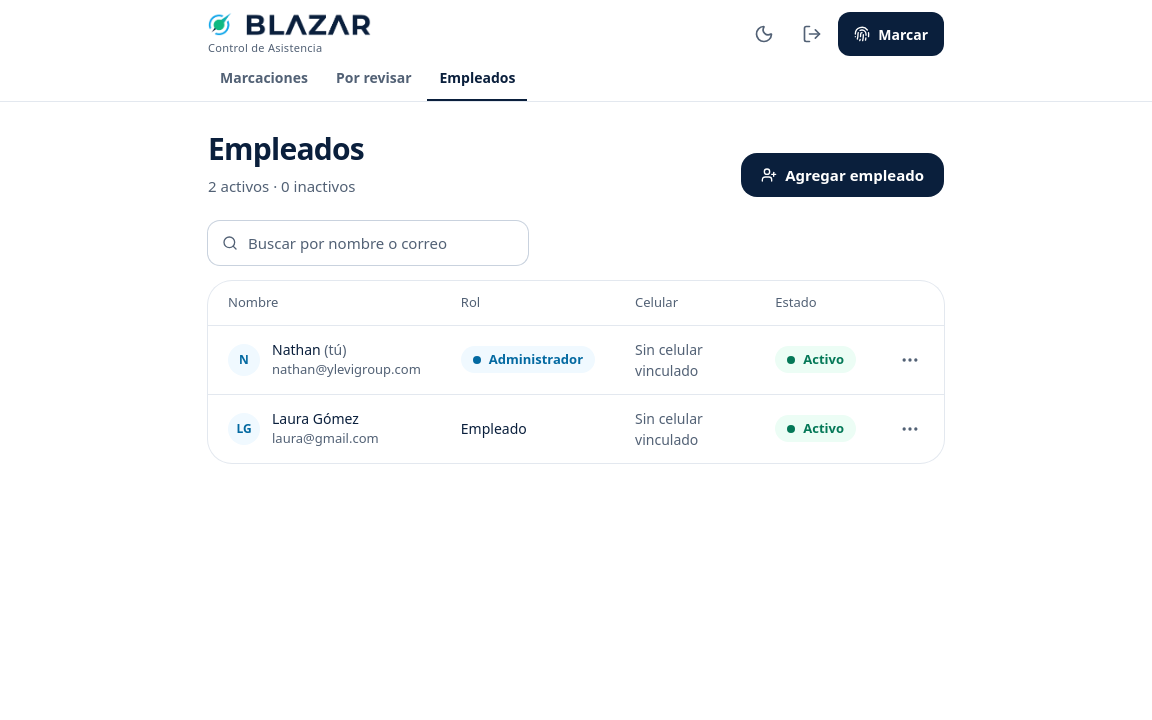
Empleados (administrador, datos reales) › si el servidor rechaza la acción, explica el motivo en el diálogo
Press Enter in the button named "Acciones para Laura Gómez", box [888,406,932,450]
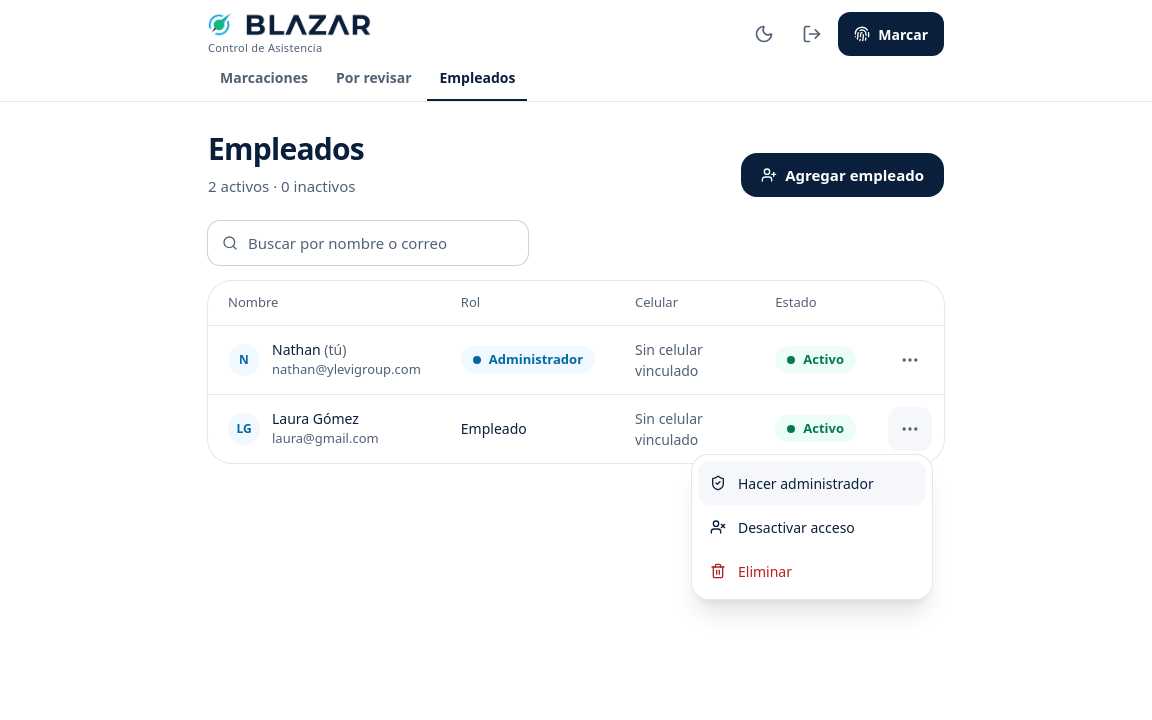
Click the menu item "Hacer administrador" at {"x": 812, "y": 483}, box [698,461,926,505]
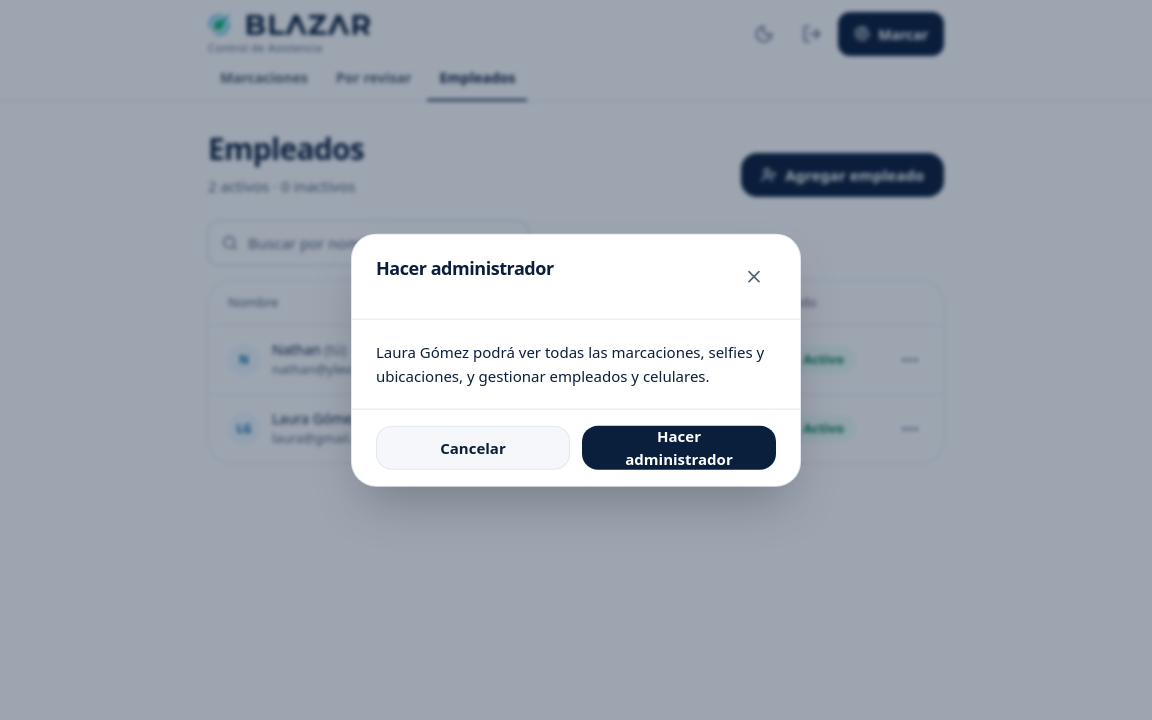
Click the button "Hacer administrador" at {"x": 679, "y": 447}, box [582,425,776,469]
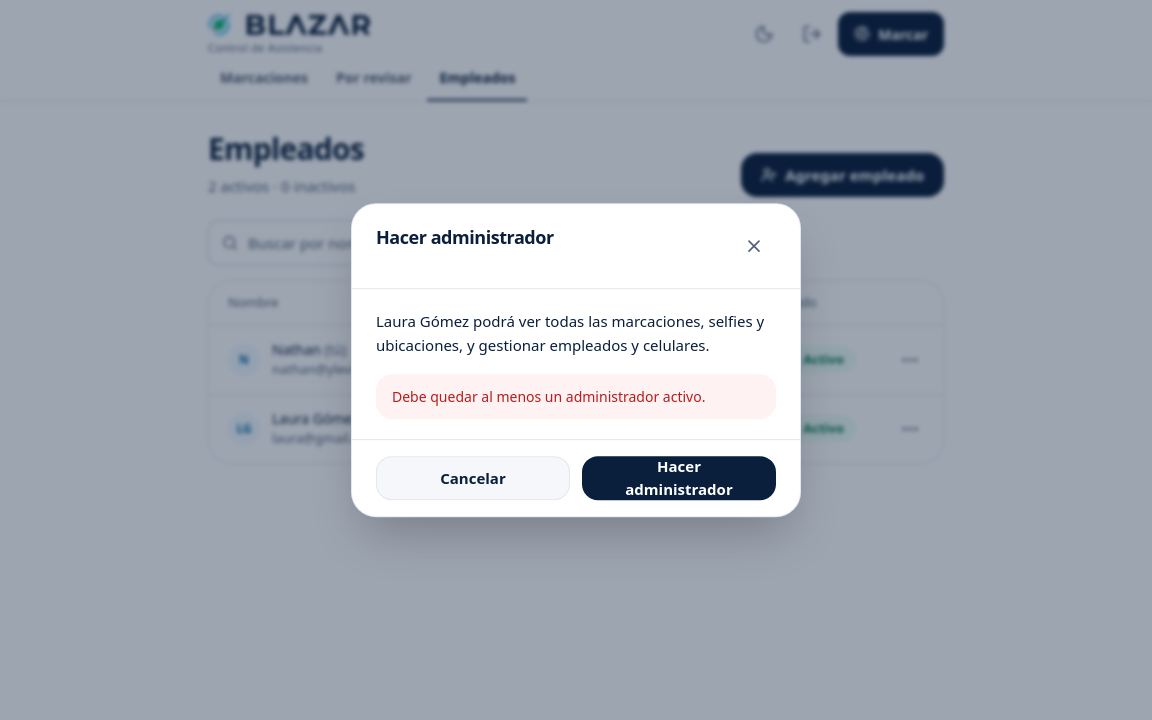
Check: the message reads "Debe quedar al menos un administrador activo.", box [392,387,705,406]
